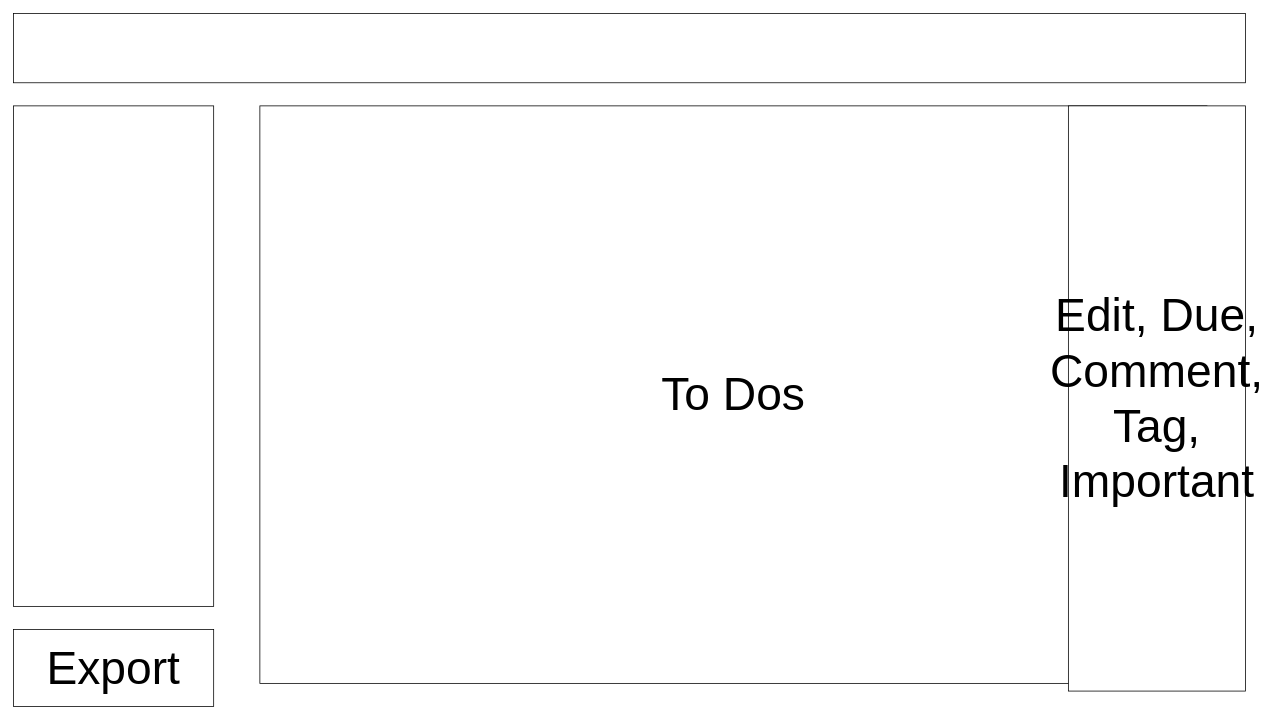
Image size: 1277x720. Some labels were removed from this diagram. Here are the shapes that lost their labels. From the top down, the box of each, then its label:
(13, 13, 1245, 83): Title Bar
(13, 105, 214, 606): Lists / Categ.
